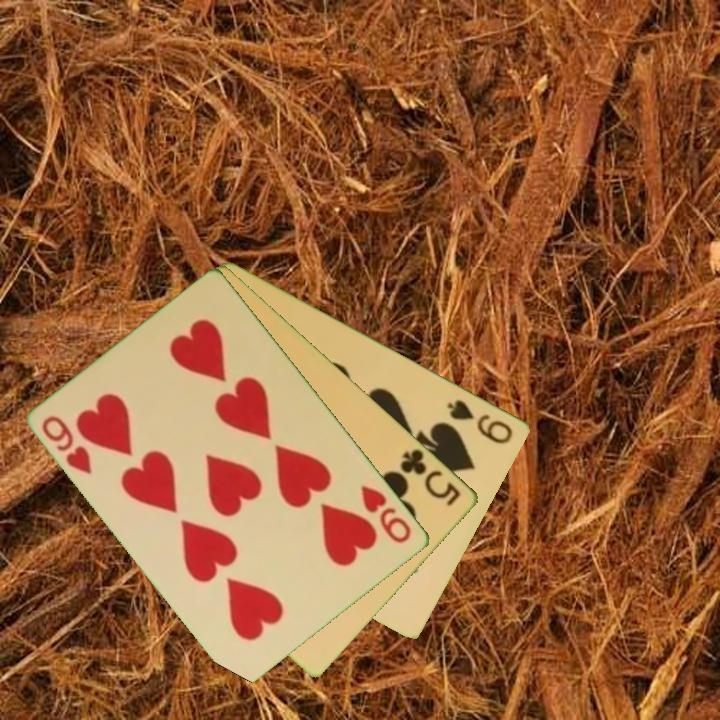5c: (396, 445, 465, 509)
9h: (357, 481, 415, 547), (39, 411, 96, 477)
9s: (444, 395, 517, 447)
